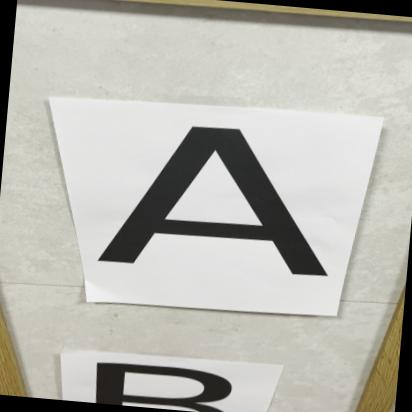seat: (84, 115, 366, 284)
